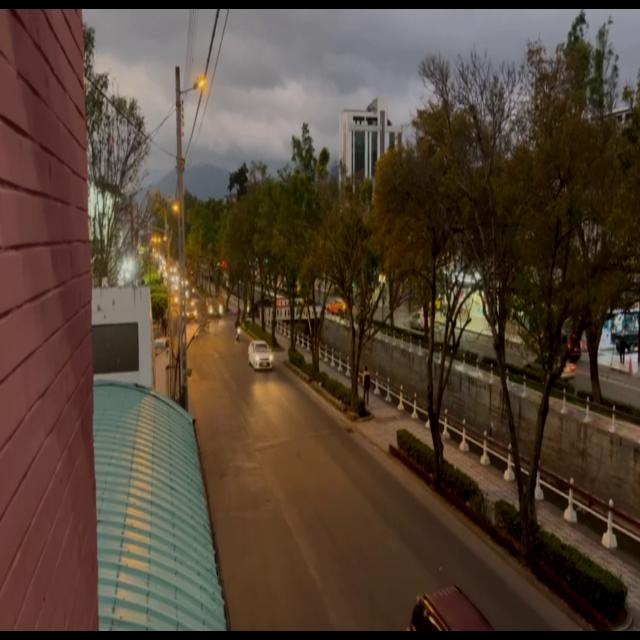SED: (247, 338, 274, 371)
